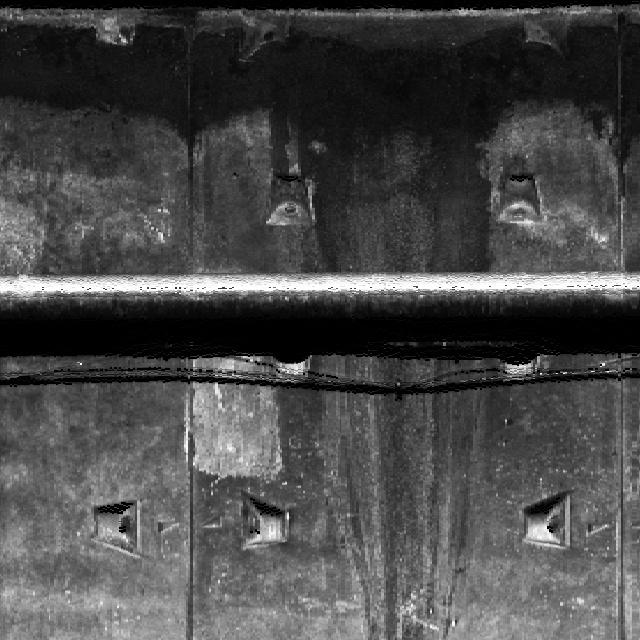leakage: (0, 0, 633, 268), (305, 342, 494, 639)
